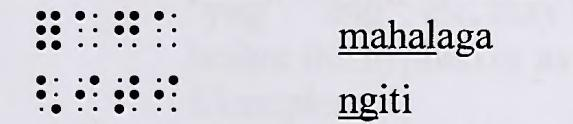a: (74, 8, 99, 50), (153, 10, 179, 49)
g: (113, 8, 139, 50)
i: (152, 74, 181, 115), (75, 73, 101, 116)
mahal: (35, 8, 63, 51)
ng: (34, 73, 63, 116)
t: (113, 73, 139, 115)
